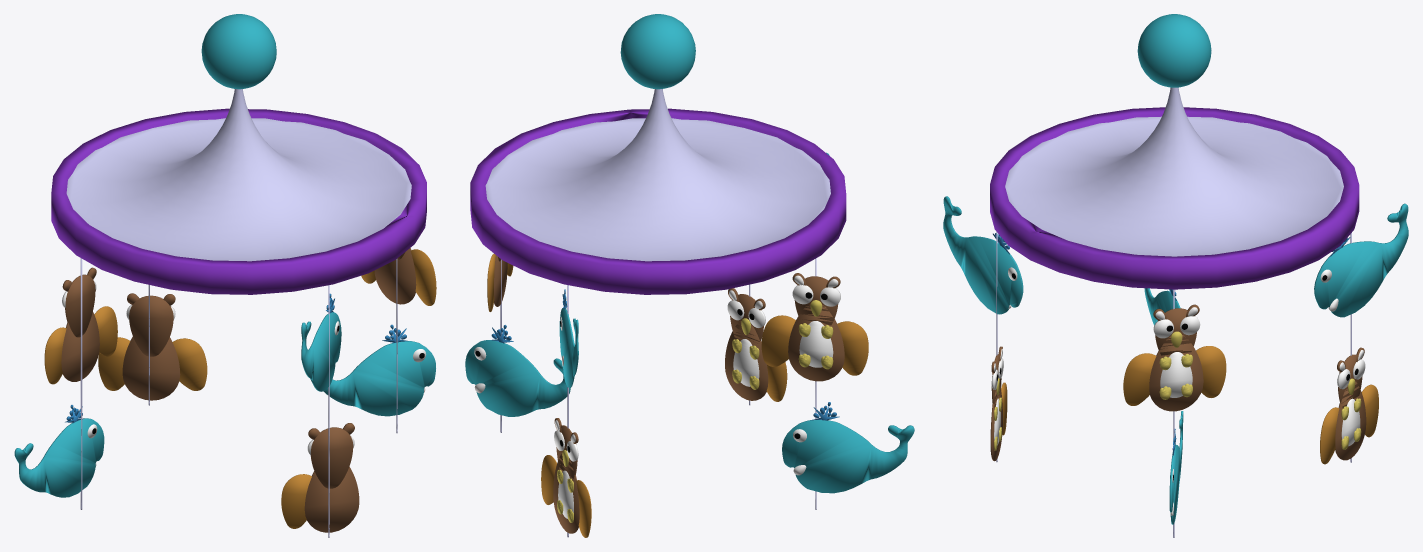
The model's file is mobile.fbx.
The picture shows the model from 3 angles, left to right: view 1: azimuth 30°, elevation 25°; view 2: azimuth 150°, elevation 25°; view 3: azimuth 270°, elevation 25°; orthographic projection.
Visible parts, largest first — view 1: Arc001, Donut001, Whale005, Sphere001, Whale, Body, Body003, Whale003, Head, Head003, Body001, Body002 (+8 smaller); view 2: Arc001, Donut001, Whale, Whale005, Sphere001, Body001, Body003, Wing003, Wing002, Whale001, Tummy001, Body (+7 smaller); view 3: Arc001, Donut001, Whale001, Sphere001, Whale003, Body002, Wing005, Wing004, Body, Tummy002, Whale005, Wing001 (+3 smaller).
Boxes of the visible parts, box(x1,y1,x2,y2) form: Arc001: box(66, 89, 411, 261); Donut001: box(51, 108, 426, 294); Whale005: box(323, 341, 435, 416); Sphere001: box(201, 14, 276, 89); Whale: box(14, 418, 104, 497); Body: box(122, 336, 180, 400); Body003: box(304, 466, 359, 532); Whale003: box(301, 312, 341, 391); Head: box(129, 295, 173, 356); Head003: box(310, 427, 353, 488); Body001: box(61, 312, 99, 381); Body002: box(374, 248, 416, 304); Arc001: box(485, 89, 830, 261); Donut001: box(470, 108, 846, 294); Whale: box(782, 420, 914, 493); Whale005: box(465, 340, 570, 416); Sphere001: box(620, 14, 695, 89); Body001: box(788, 303, 844, 381); Body003: box(725, 321, 768, 400); Wing003: box(761, 315, 795, 366); Wing002: box(837, 321, 868, 375); Whale001: box(559, 308, 578, 387); Tummy001: box(799, 321, 833, 367); Body: box(553, 454, 579, 533); Arc001: box(1005, 87, 1343, 256); Donut001: box(990, 107, 1359, 289); Whale001: box(1314, 203, 1408, 317); Sphere001: box(1137, 14, 1211, 87); Whale003: box(943, 196, 1023, 314); Body002: box(1149, 335, 1203, 411); Wing005: box(1123, 353, 1156, 405); Wing004: box(1196, 346, 1226, 397); Body: box(1335, 381, 1366, 460); Tummy002: box(1160, 352, 1192, 397); Whale005: box(1169, 411, 1183, 524); Wing001: box(1320, 407, 1339, 464).
Size of the model in its own units: 6666 by 6645 by 6302.
